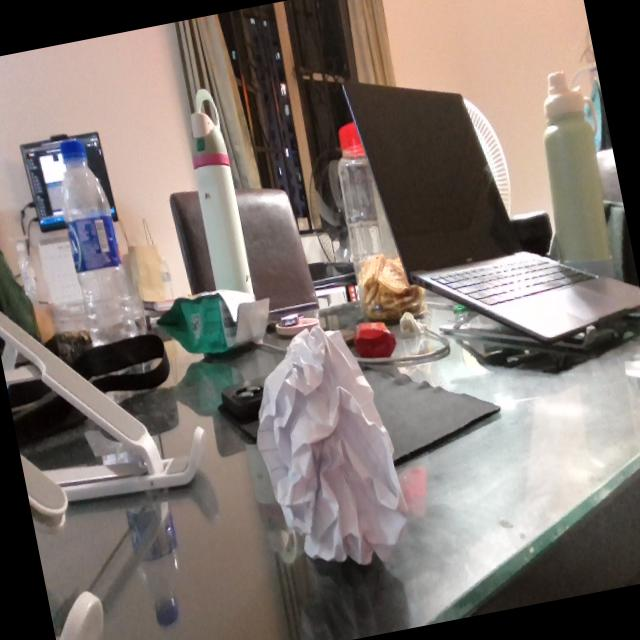crumpled_paper: (237, 311, 420, 585)
